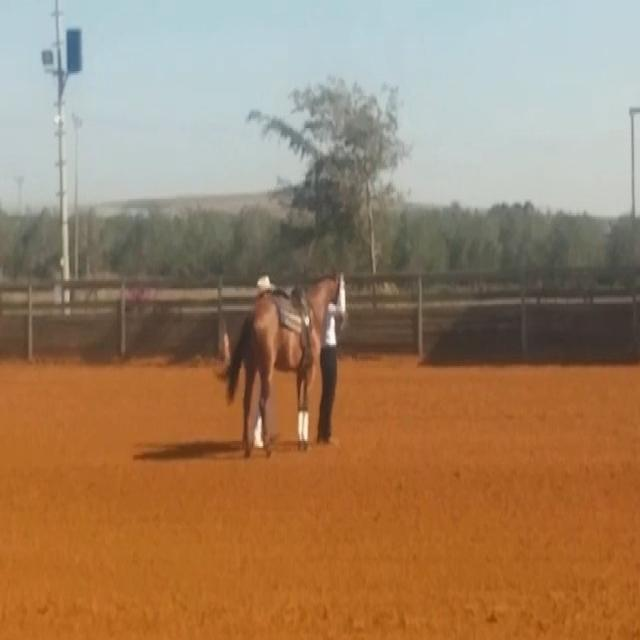horse: (223, 267, 346, 457)
